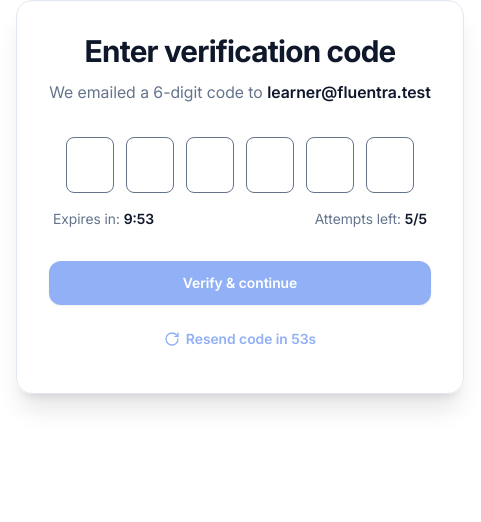
Scenario: Auth Flows (Tasks 1, 3, 4, 5, 6, 7, 8) › Task 3, 4, 6: OtpVerificationScreen (Real OpenAPI shape & Server Meta) › does not decrement attempts on network or 500 error
Click the field named "Digit 1 of 6": point(90, 164) [66,136,114,192]
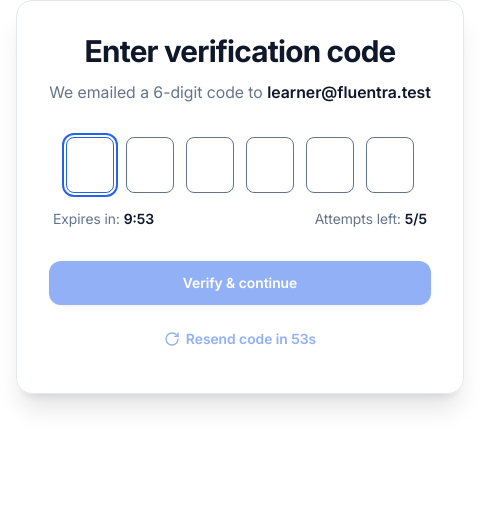
Type keys "777777"
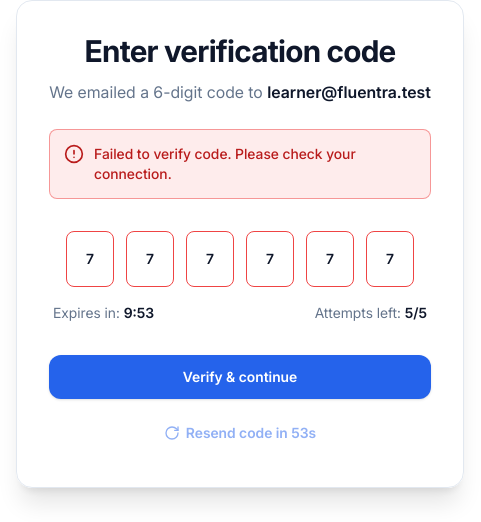
expect the text "Attempts left: 5/5" is shown: met, box [315,302,427,322]
expect the message shows "Failed to verify code": met, box [94,144,356,182]
